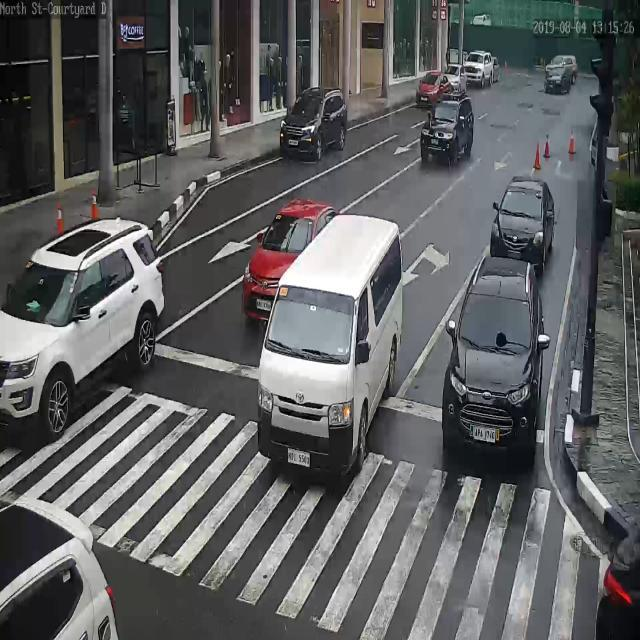car: (0, 218, 163, 438), (445, 245, 546, 458), (0, 495, 119, 640), (242, 199, 337, 320), (490, 176, 555, 264), (279, 86, 347, 162), (419, 96, 475, 167), (417, 70, 452, 106), (463, 49, 493, 86), (544, 66, 571, 96), (445, 64, 467, 94)
van: (258, 213, 402, 482)
